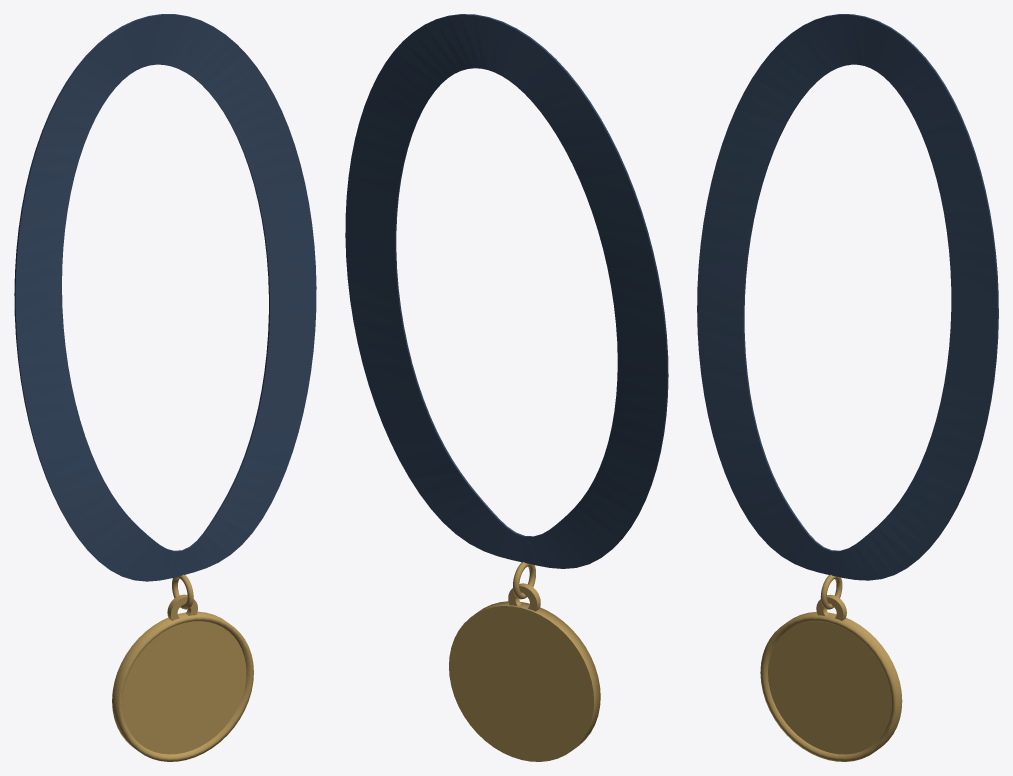
Rendered from A-NEW-20261027-MEDAL-001_LOD1_R2.glb.
3 views of the same model, side by side, from view 1: azimuth 30°, elevation 25°; view 2: azimuth 150°, elevation 25°; view 3: azimuth 330°, elevation 25° (orthographic). The views are drawn at different scales.
Visible parts, largest first — view 1: complete broad neck ribbon loop, plain rimmed medal disc; view 2: complete broad neck ribbon loop, plain rimmed medal disc; view 3: complete broad neck ribbon loop, plain rimmed medal disc.
Part boxes in pixels (x1,y1,x2,y2): complete broad neck ribbon loop: [14, 14, 316, 581]; plain rimmed medal disc: [112, 611, 253, 761]; complete broad neck ribbon loop: [345, 14, 668, 568]; plain rimmed medal disc: [449, 601, 600, 761]; complete broad neck ribbon loop: [697, 14, 998, 580]; plain rimmed medal disc: [760, 612, 902, 761].
Size of the model in its own units: 0.154 by 0.353 by 0.0392.
